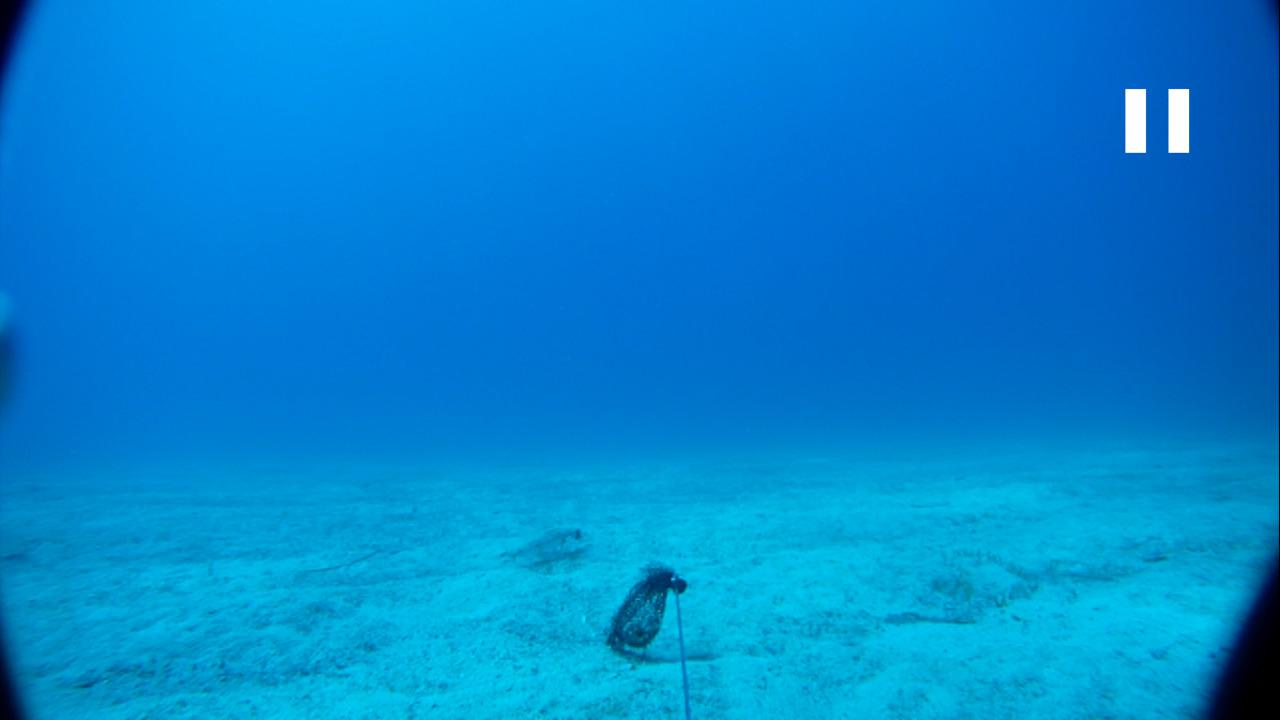dactylopterus: (492, 526, 594, 567)
